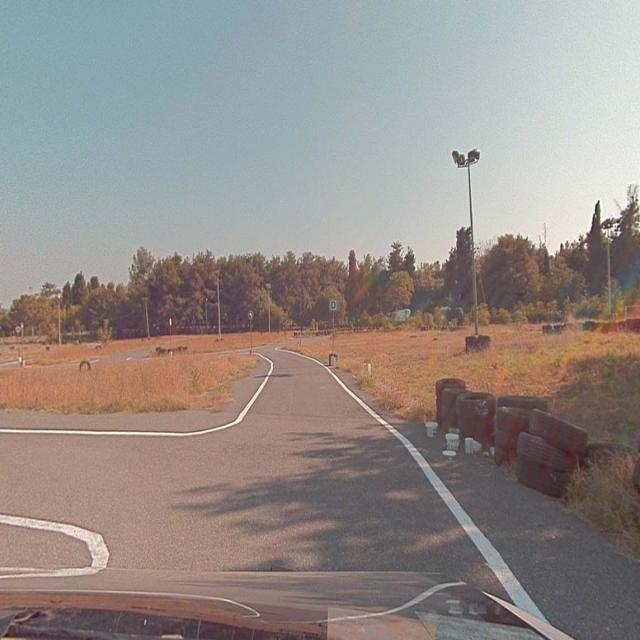durak: (329, 298, 338, 311)
